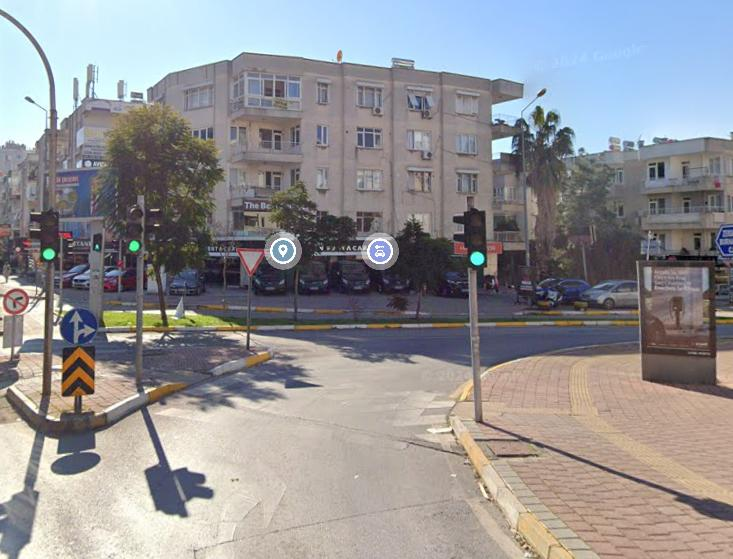greenlight: (465, 210, 490, 269), (38, 210, 60, 265), (124, 205, 144, 260)
rightturnsareforbidden: (5, 289, 28, 313)
